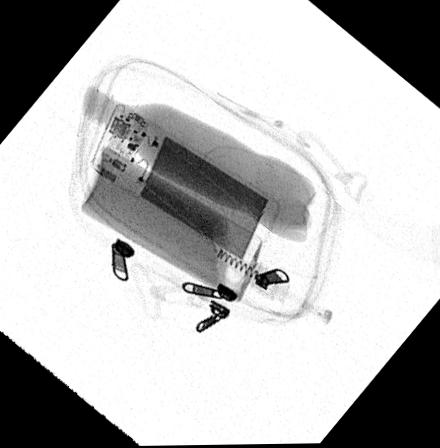Powerbank: (90, 103, 280, 275)
